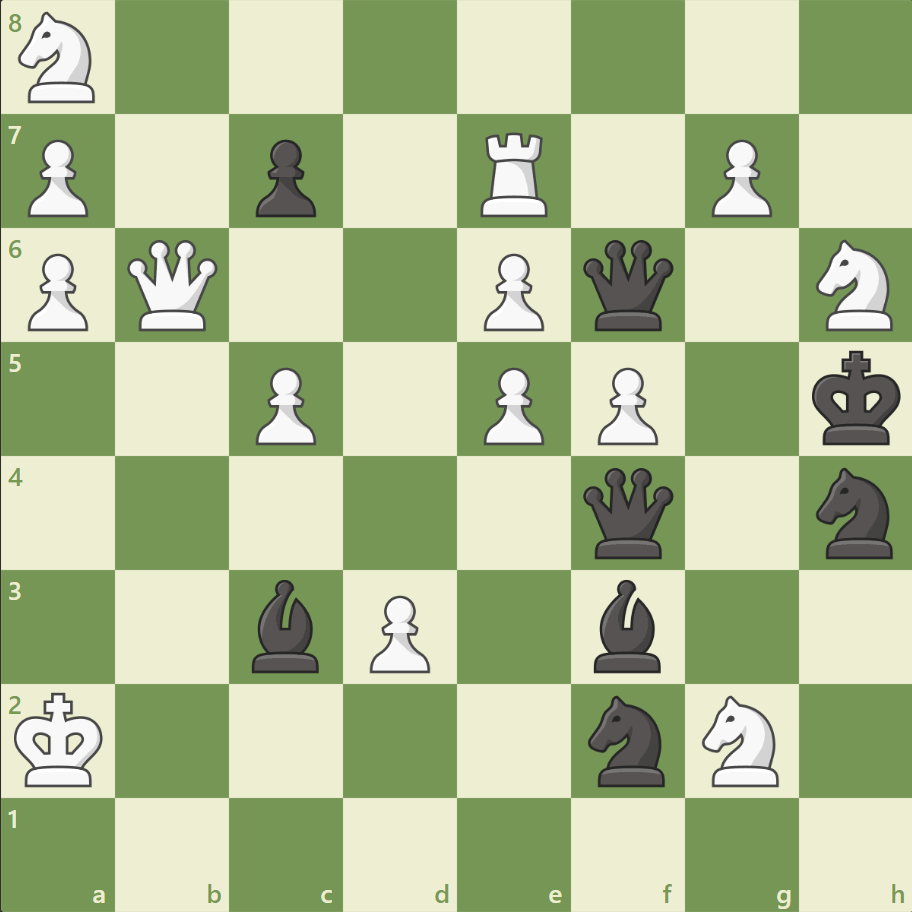K: (11, 685, 111, 793)
N: (11, 7, 108, 110), (806, 234, 903, 337), (692, 688, 789, 791)
P: (20, 132, 95, 223), (701, 132, 776, 223), (20, 246, 95, 337), (474, 246, 549, 337), (247, 359, 322, 450), (474, 359, 549, 450), (588, 359, 662, 450), (361, 586, 435, 677)
Q: (124, 236, 223, 335)
R: (473, 125, 556, 222)
b: (244, 574, 328, 676), (585, 574, 669, 676)
k: (806, 344, 906, 452)
n: (806, 461, 903, 564), (579, 688, 676, 791)
p: (247, 132, 322, 223)
q: (578, 236, 677, 335), (578, 463, 677, 562)
